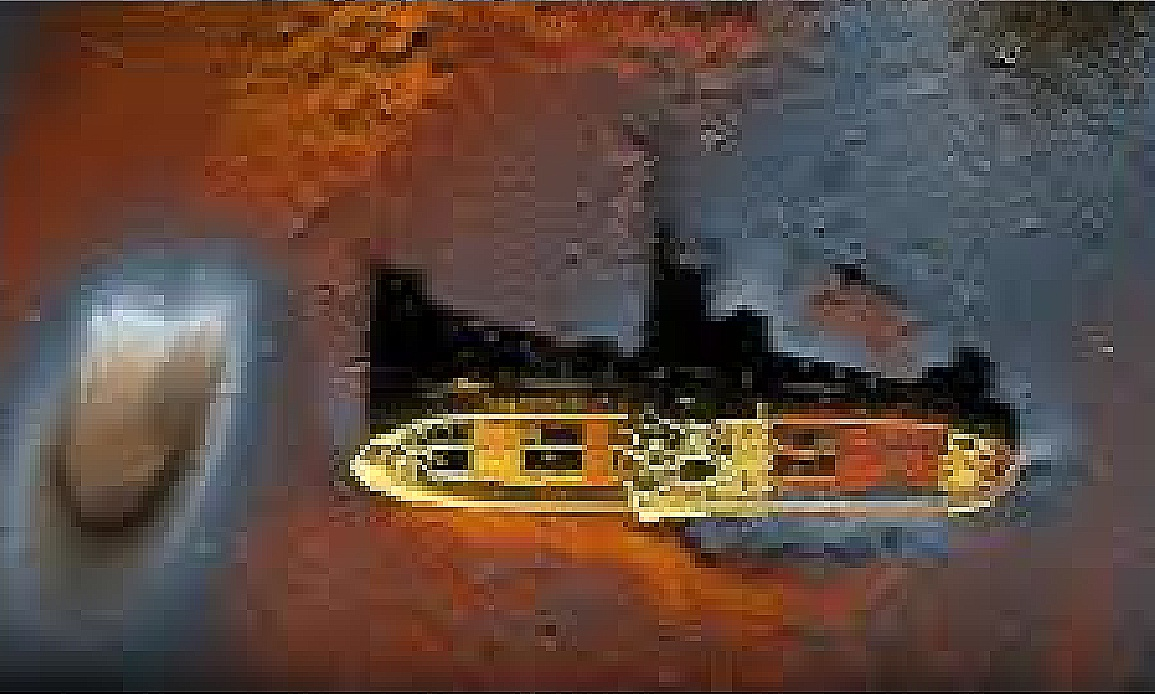ship: (344, 393, 1031, 529)
